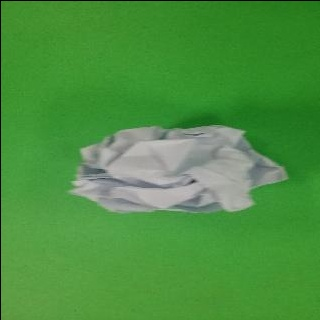8/可回收垃圾/纸: (67, 123, 288, 214)
